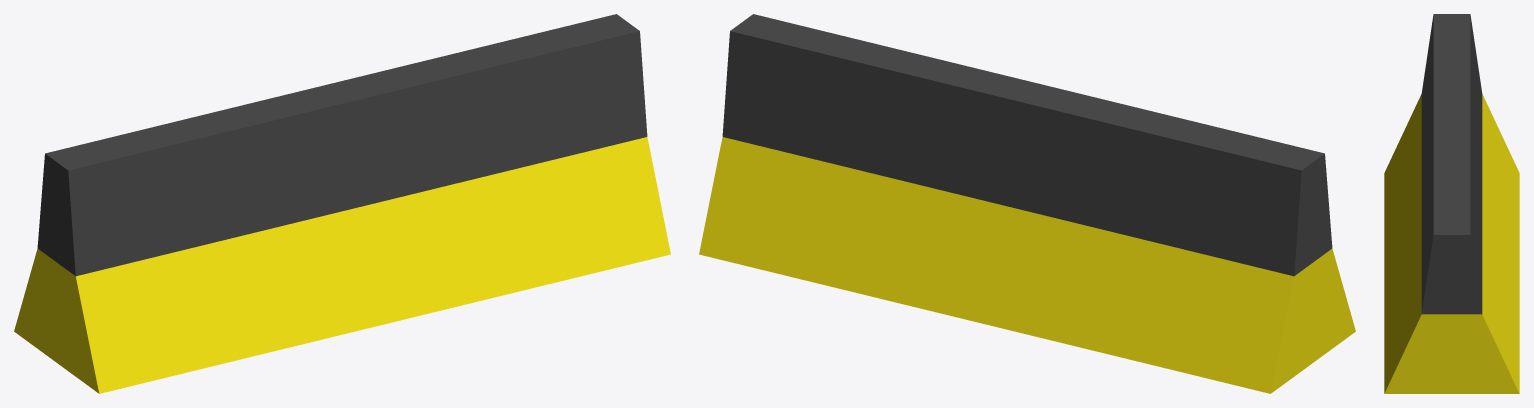
The model's file is Road_Block.fbx.
3 renders of one model, left to right at view 1: azimuth 30°, elevation 25°; view 2: azimuth 150°, elevation 25°; view 3: azimuth 270°, elevation 25°, orthographic. The views are drawn at different scales.
Visible parts, largest first — view 1: Cube; view 2: Cube; view 3: Cube.
Part boxes in pixels (x1,y1,x2,y2): Cube: (14, 14, 670, 393); Cube: (699, 14, 1355, 393); Cube: (1384, 14, 1519, 393).
Size of the model in its own units: 596 by 200 by 154.
